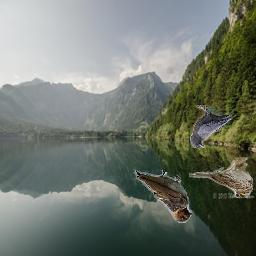Crow: (190, 106, 232, 149)
Sparrow: (189, 158, 253, 199)
Swallow: (134, 167, 193, 223)
